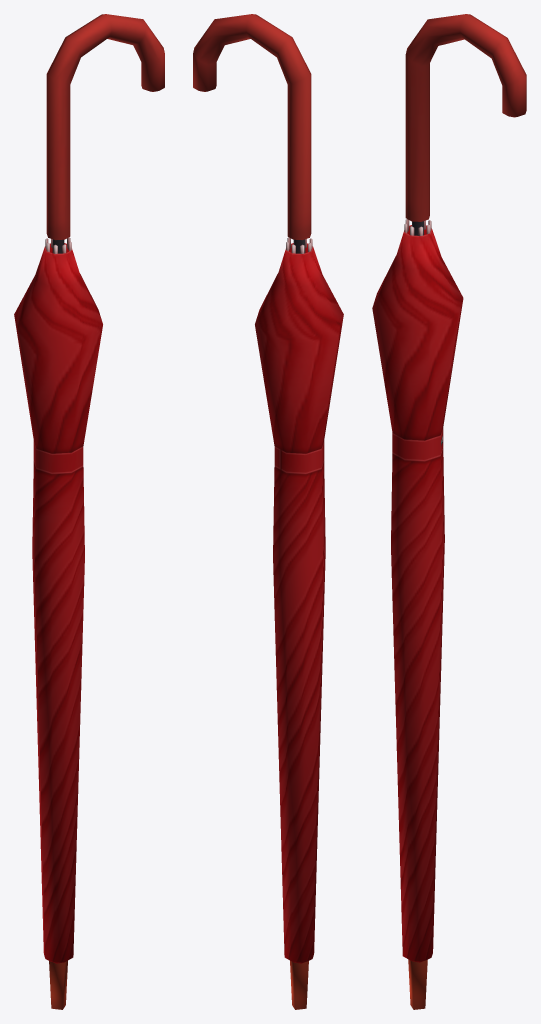
Rendered from set_umbrella_10.fbx.
3 views of the same model, side by side, from view 1: azimuth 30°, elevation 25°; view 2: azimuth 150°, elevation 25°; view 3: azimuth 330°, elevation 25° (orthographic). The views are drawn at different scales.
Parts seen in each view (by area): view 1: set_umbrella_10; view 2: set_umbrella_10; view 3: set_umbrella_10.
Boxes of the visible parts, x1,y1,x2,y2 form: set_umbrella_10: [14, 14, 164, 1009]; set_umbrella_10: [193, 14, 343, 1009]; set_umbrella_10: [372, 14, 526, 1009].
Size of the model in its own units: 12.79 by 82.9 by 7.05.
